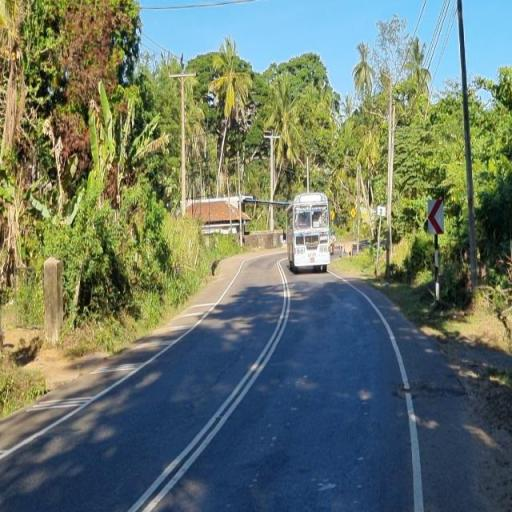double_white_line: (127, 256, 294, 512)
